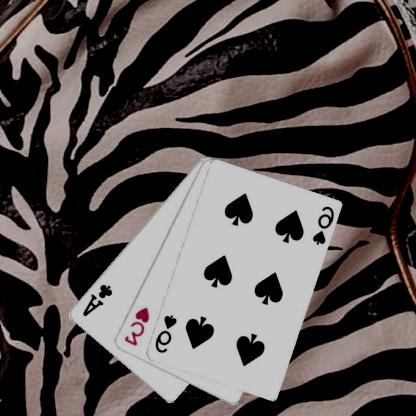3H: (123, 304, 153, 348)
6S: (311, 204, 337, 246), (154, 312, 179, 354)
AC: (81, 281, 115, 318)
